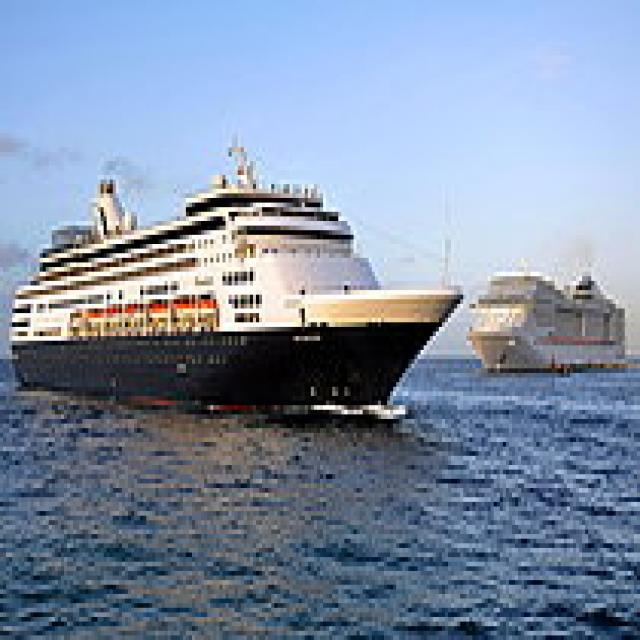Ship: (7, 121, 470, 439), (461, 240, 640, 388)
